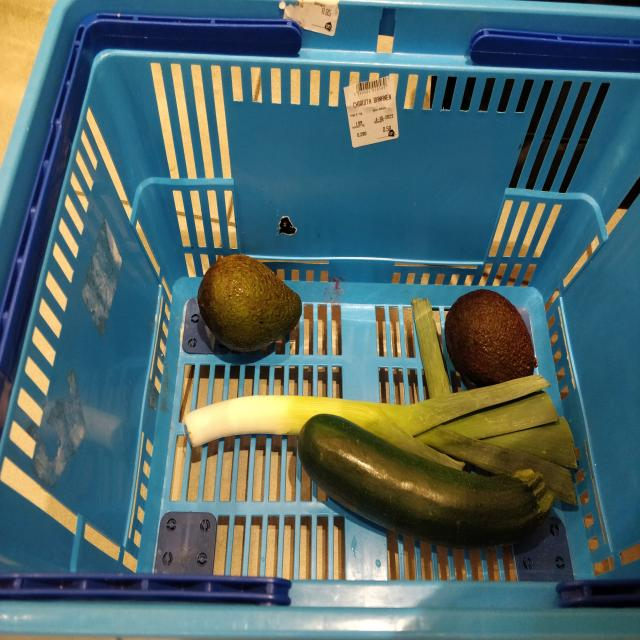avocado: (198, 254, 302, 358), (445, 291, 537, 388)
leek: (182, 299, 583, 505)
yogurt: (296, 414, 554, 550)
